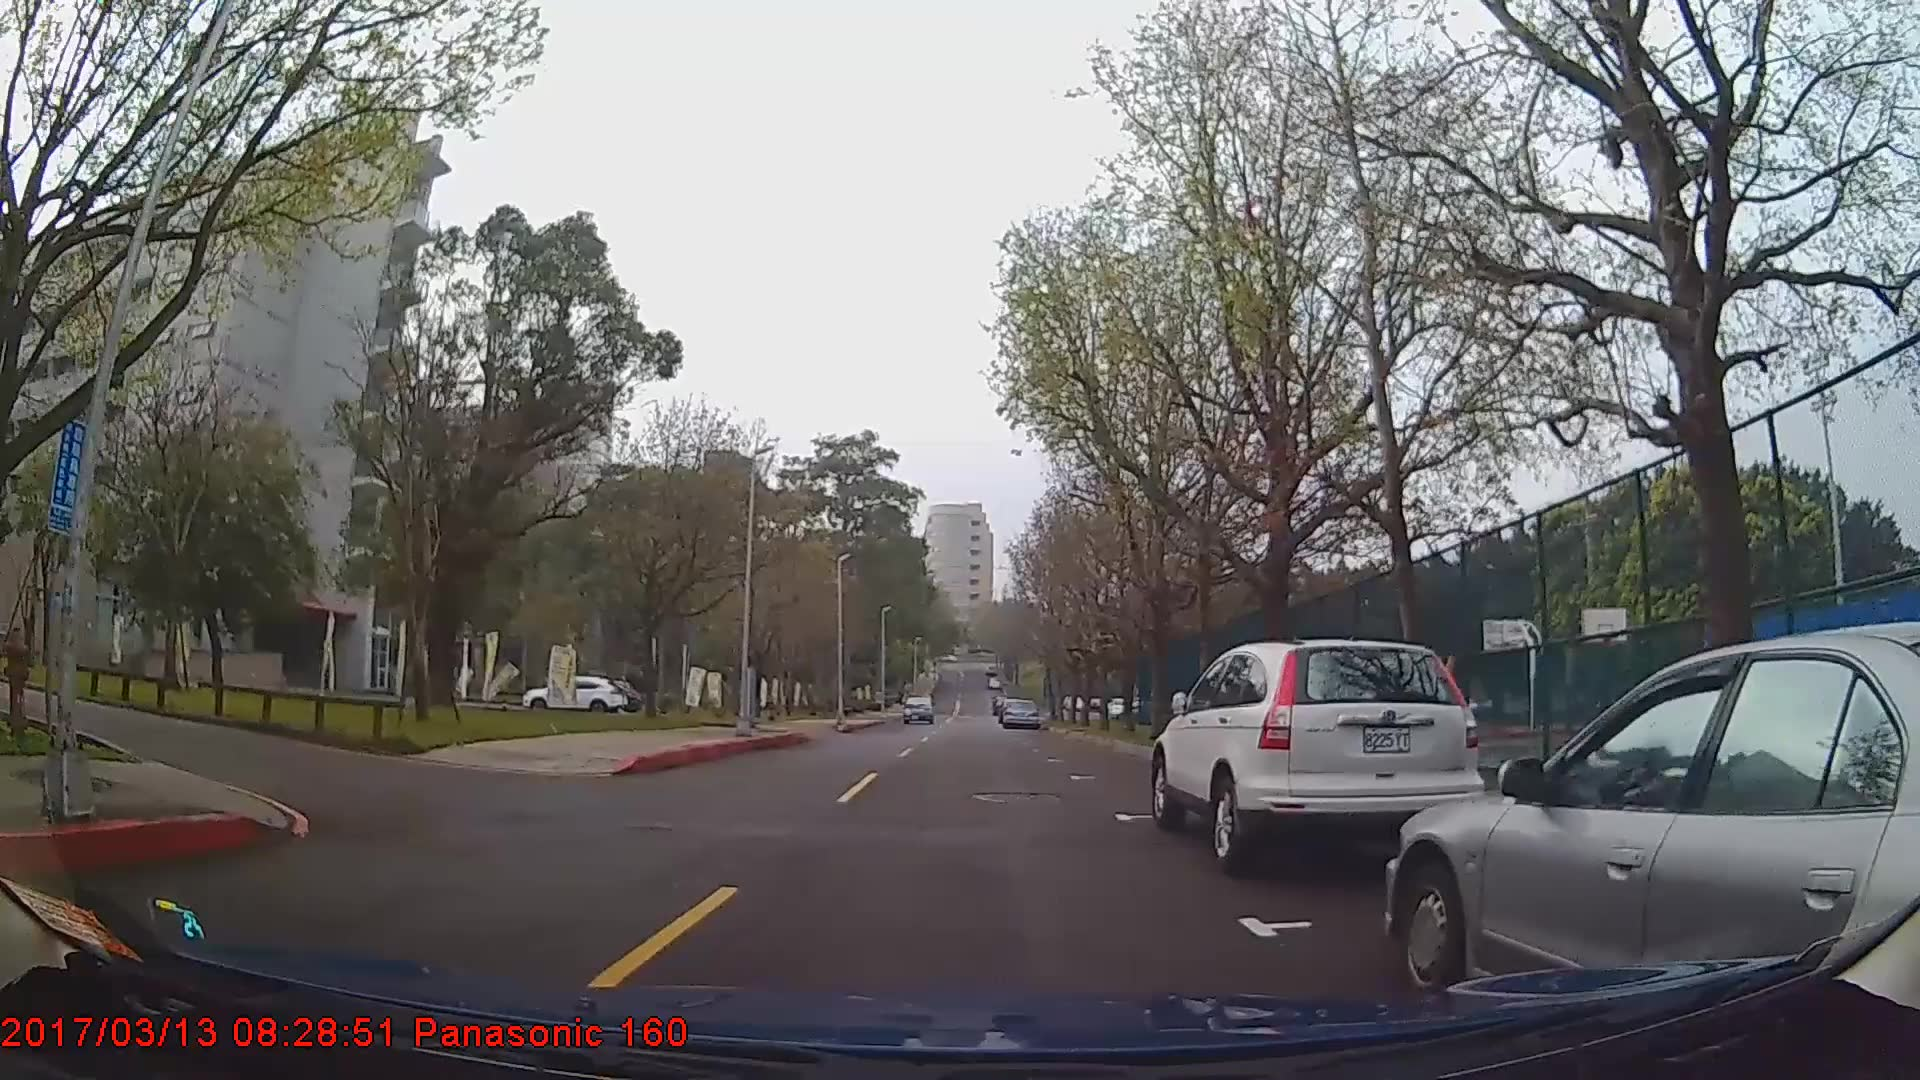vehicle: (1385, 620, 1917, 996), (1149, 640, 1486, 870), (520, 674, 626, 713), (1000, 698, 1039, 729), (899, 691, 938, 723)
